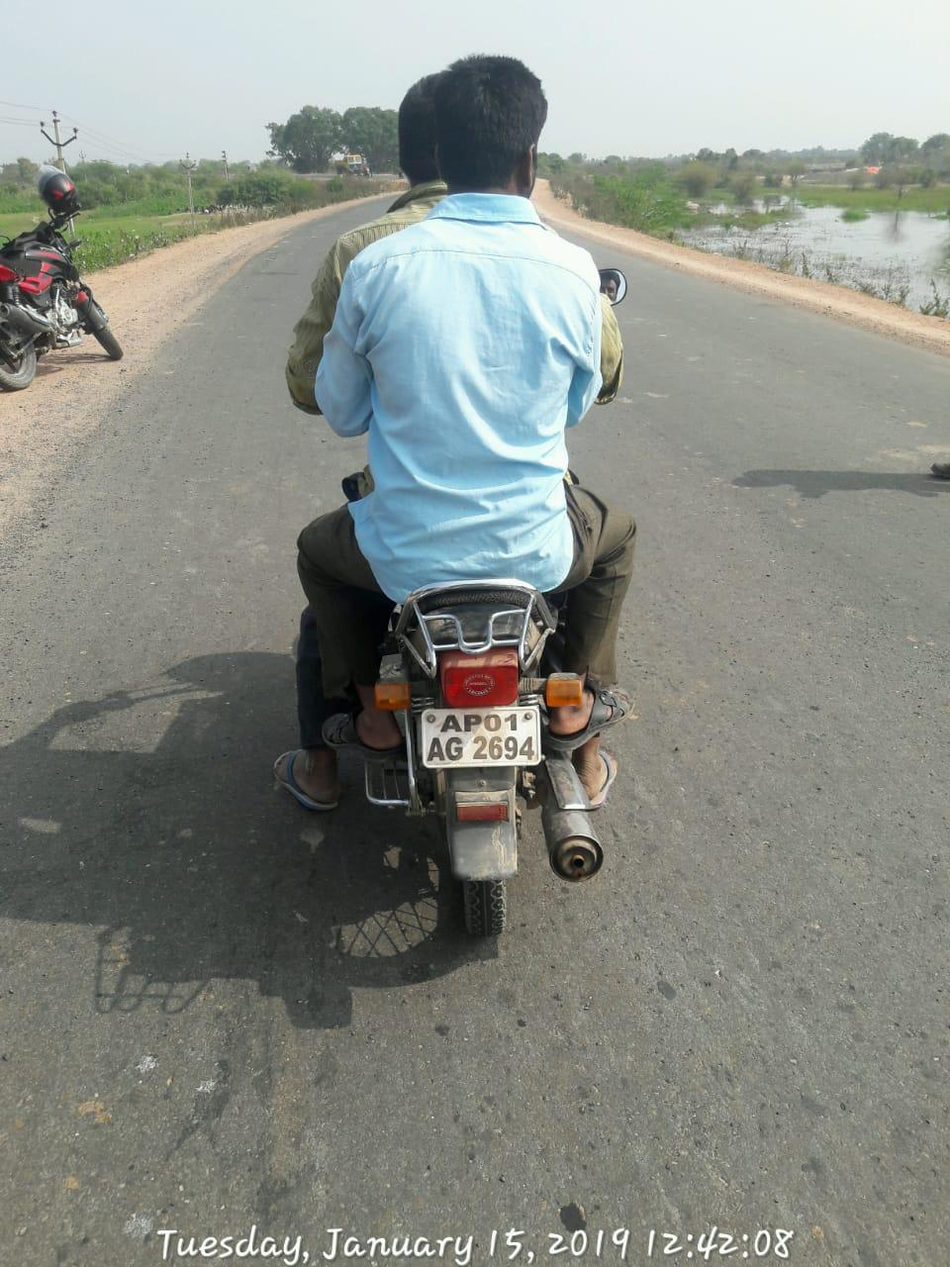plate: (415, 697, 550, 774)
